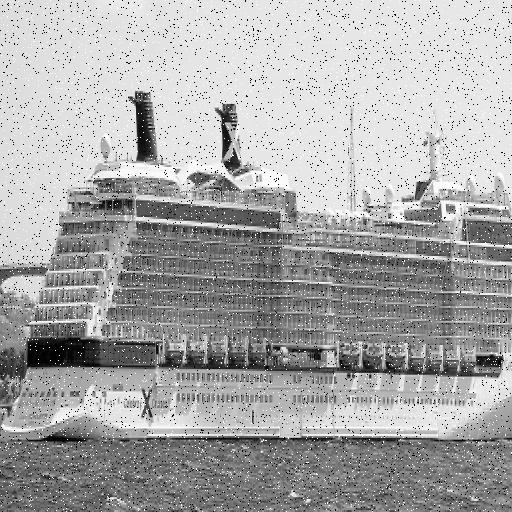cruises: (1, 84, 512, 452)
